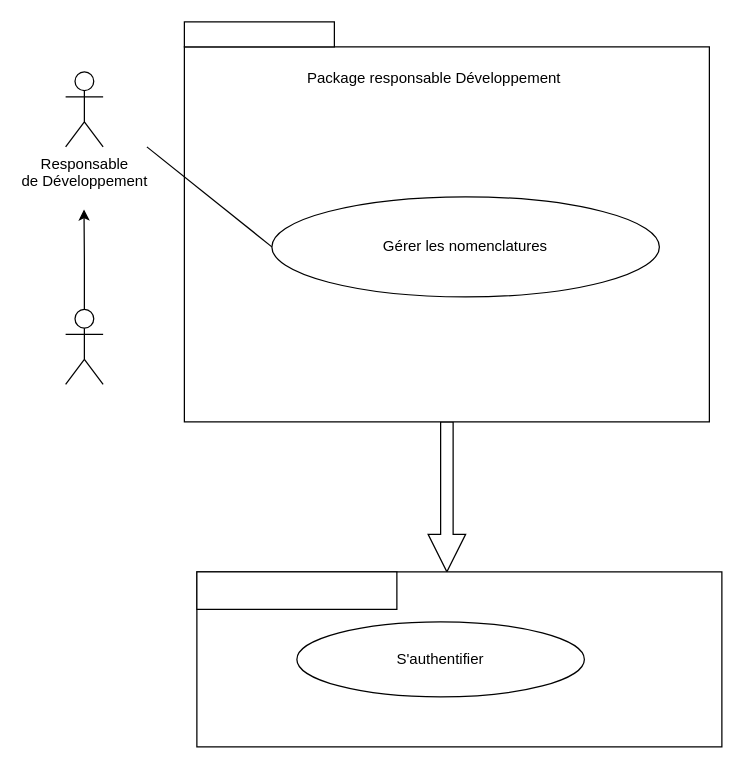
This 744x769 diagram has some shape labels left out. The shapes that lost their labels are listed below. From the top down, each one's centre as x and y in pixels, then its label:
the point at 83,346: administrateur
the point at 296,590: Package second rang
